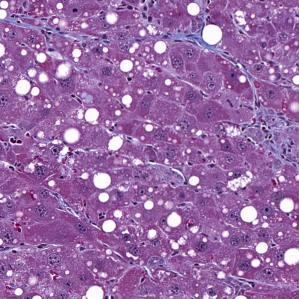fibrosis: (237, 106, 294, 156)
